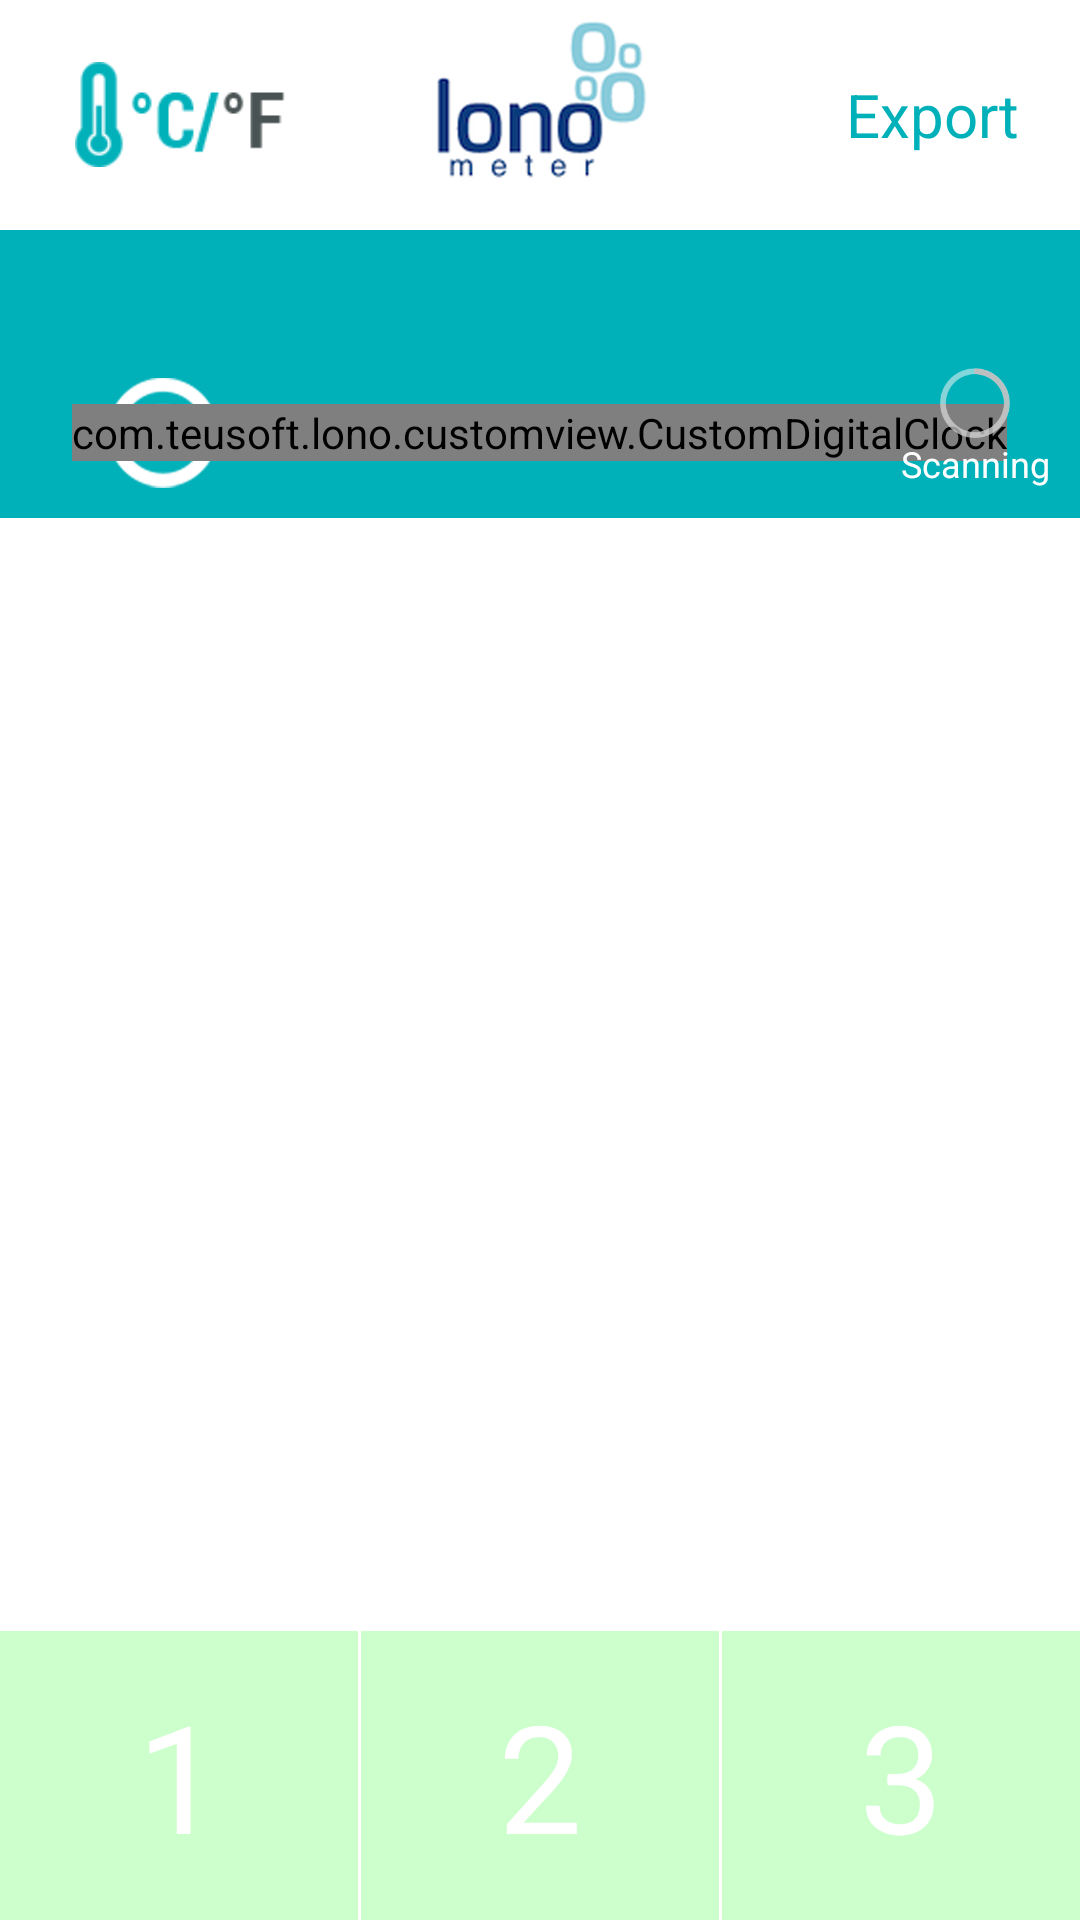

Where icons sit on this 1080×1920 app screen, as (x1, y1, x2, y2):
toggle: (75, 62, 284, 167)
